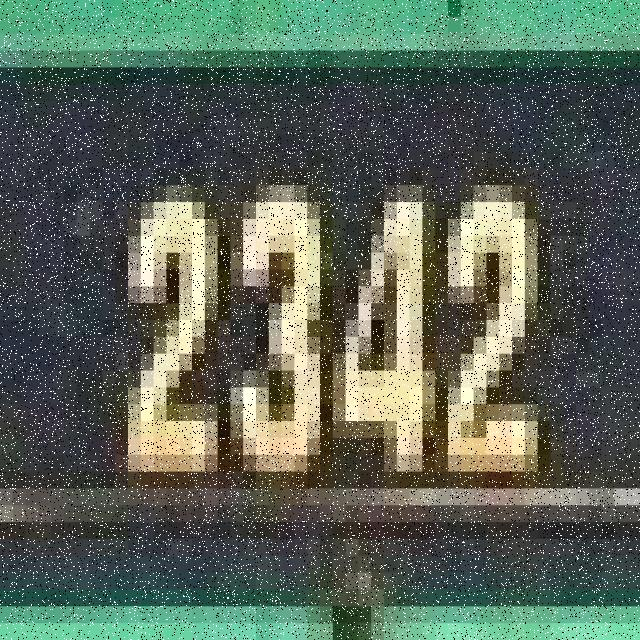licenseplate: (41, 64, 622, 514)
